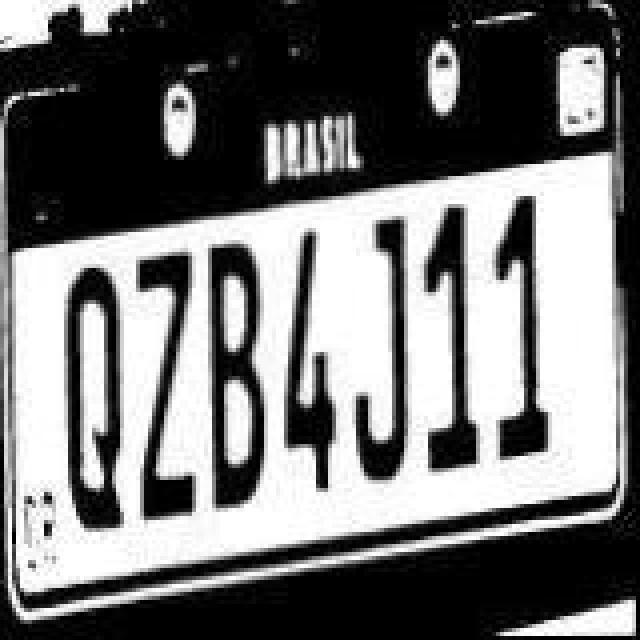1: (488, 196, 556, 468), (420, 204, 480, 480)
4: (278, 222, 342, 494)
B: (206, 236, 270, 512)
J: (352, 216, 420, 484)
Q: (64, 262, 124, 538)
Z: (136, 246, 196, 522)
